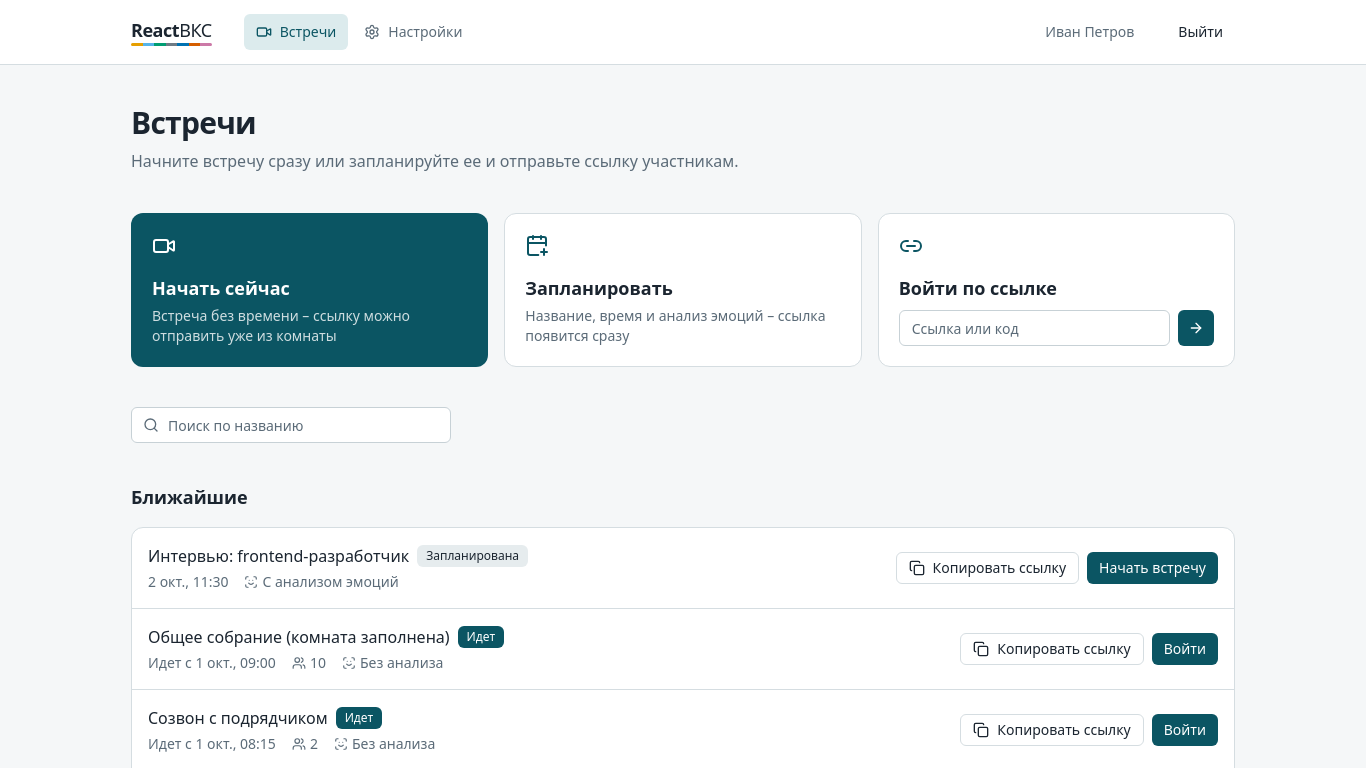
it: выход › POST /auth/logout, очистка сессии и переход на /login
Expected: the heading "Встречи" is shown, [131,102,256,143]
Click the button "Выйти" at (1201, 32), box [1166,16,1235,48]
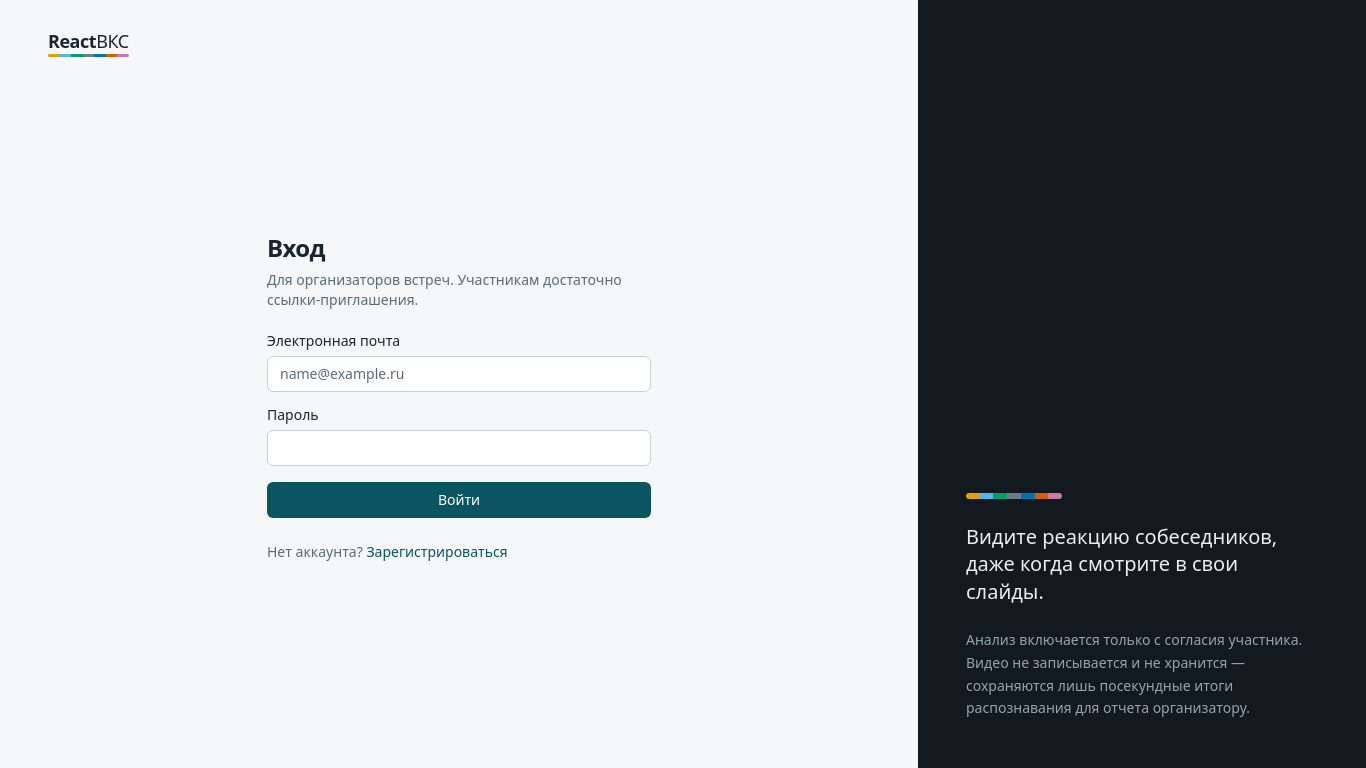
Expected: the heading "Вход" is shown, [267,230,325,264]
